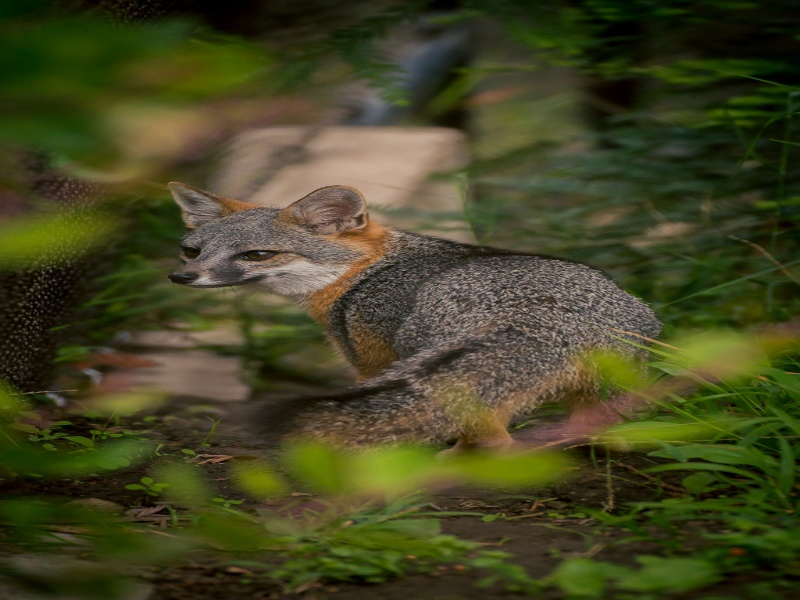fox: (150, 179, 668, 475)
